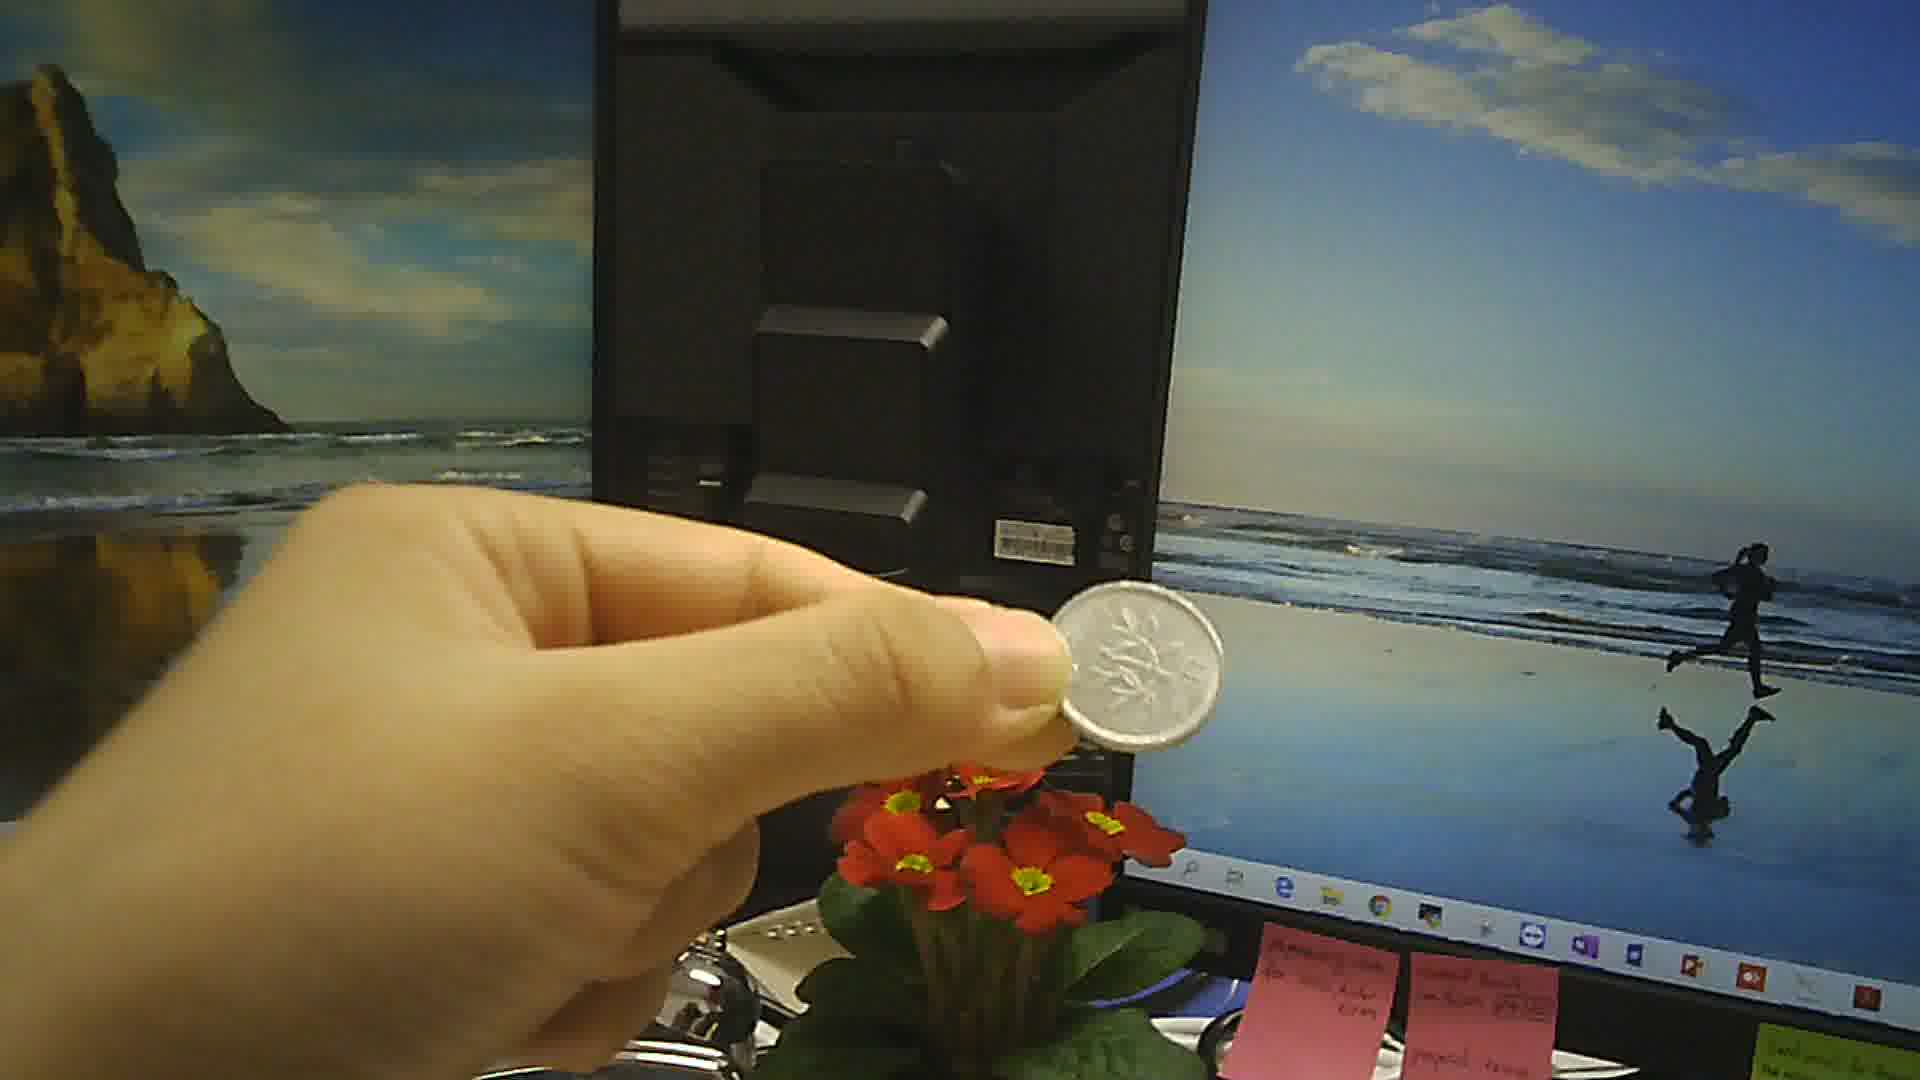1 Yen: (1040, 568, 1232, 758)
